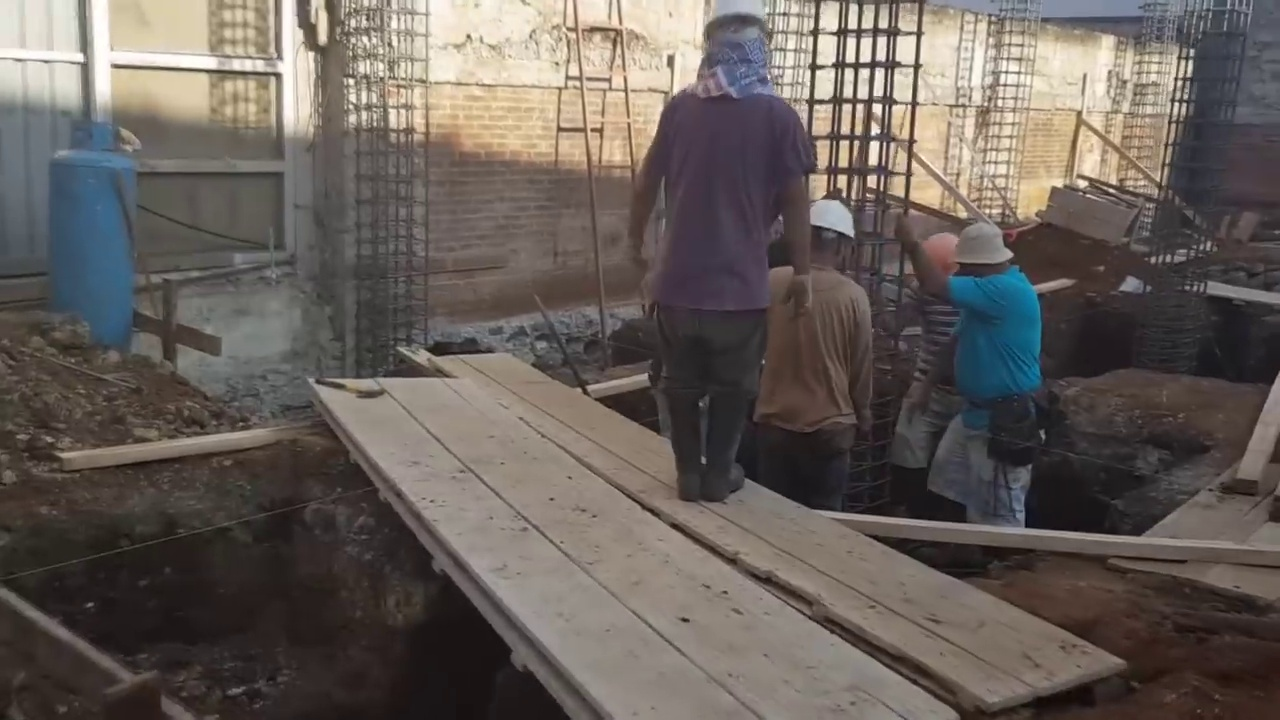helmet: (808, 192, 860, 245), (920, 230, 963, 281)
helmet-off: (700, 11, 775, 96), (956, 219, 1020, 279)
helmet-on: (806, 193, 859, 267)
person: (614, 10, 813, 520), (916, 199, 1056, 571), (760, 173, 877, 540), (872, 227, 967, 528)
